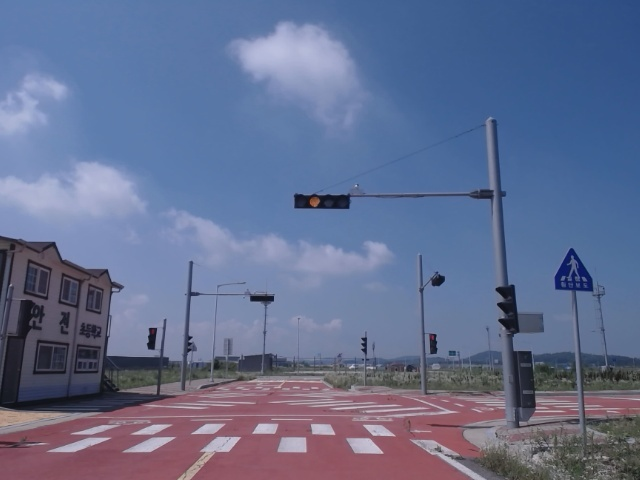orange_4: (293, 194, 351, 210)
